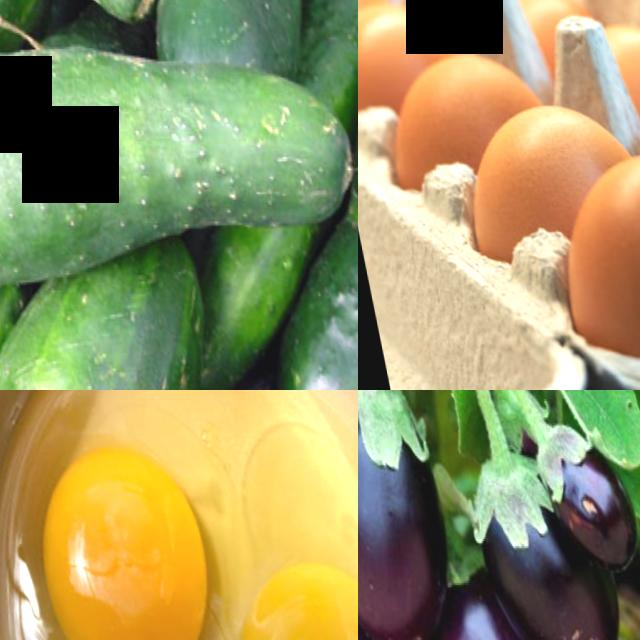cucumber: (0, 0, 358, 327), (0, 249, 230, 390), (236, 202, 358, 390)
egg_: (13, 421, 227, 640), (535, 126, 640, 367), (445, 92, 582, 264)
eggplant: (459, 438, 600, 640), (358, 390, 462, 640), (532, 400, 640, 561)
